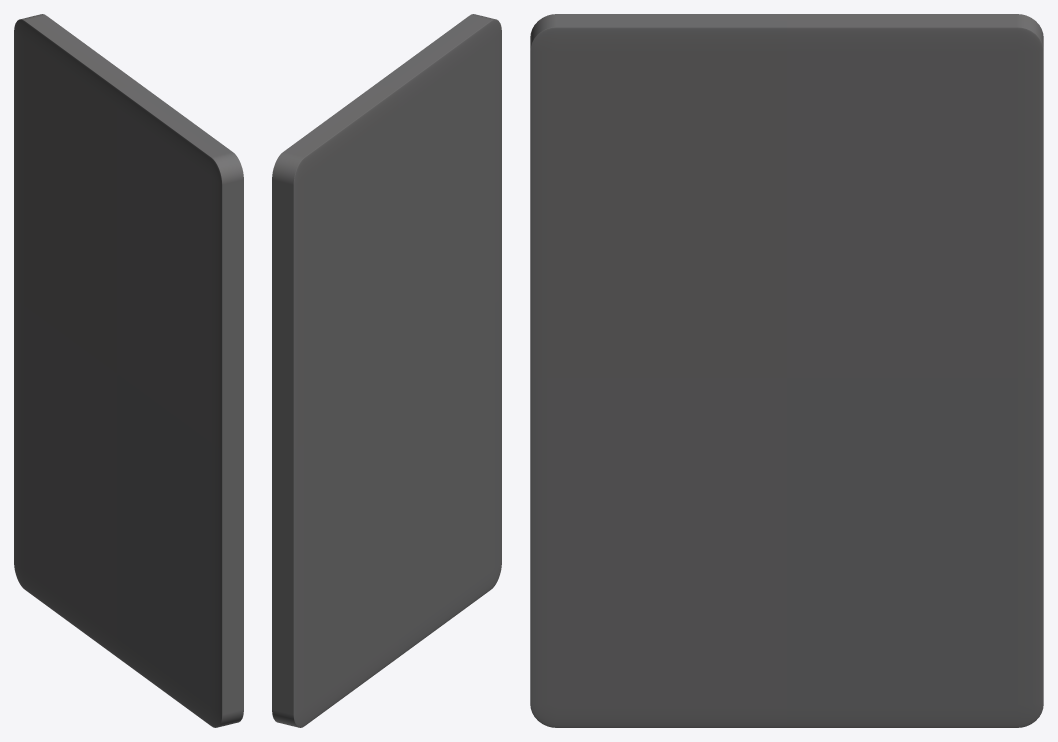
Rendered from custom shape 3js.obj.
3 views of the same model, side by side, from view 1: azimuth 30°, elevation 25°; view 2: azimuth 150°, elevation 25°; view 3: azimuth 270°, elevation 25° (orthographic). The views are drawn at different scales.
Visible parts, largest first — view 1: 000_Box_1; view 2: 000_Box_1; view 3: 000_Box_1.
Part boxes in pixels (x1,y1,x2,y2): 000_Box_1: (14,14,243,727); 000_Box_1: (272,14,501,727); 000_Box_1: (530,14,1043,727).
Size of the model in its own units: 4.78 by 111 by 73.66.
Materials: 1 (1 with a texture image).
